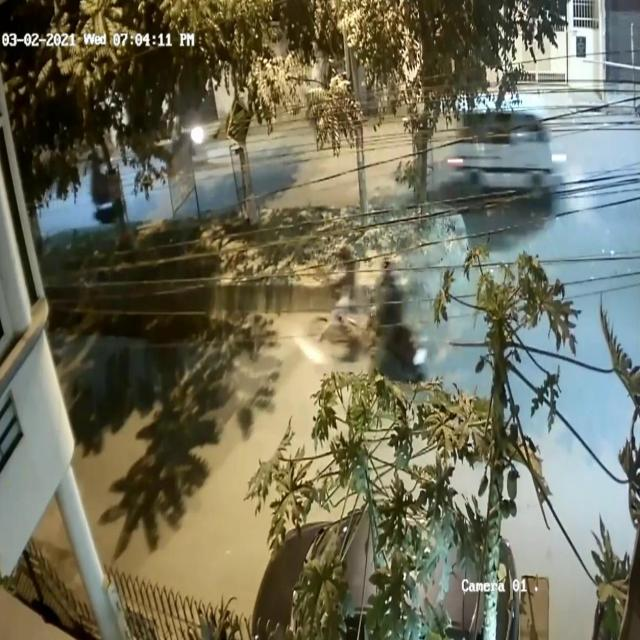accident: (313, 236, 431, 392)
